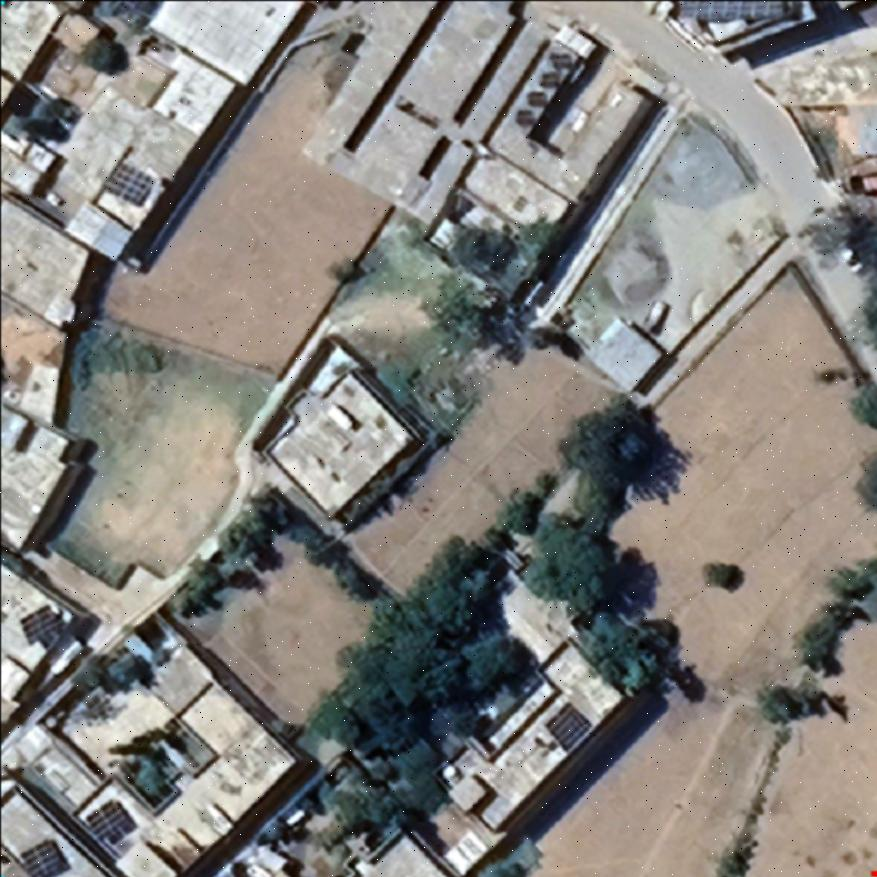Solarpanel: (509, 45, 578, 129), (544, 703, 592, 753), (678, 1, 784, 21), (84, 799, 130, 845), (103, 162, 151, 204), (17, 839, 65, 877), (18, 605, 58, 647)
